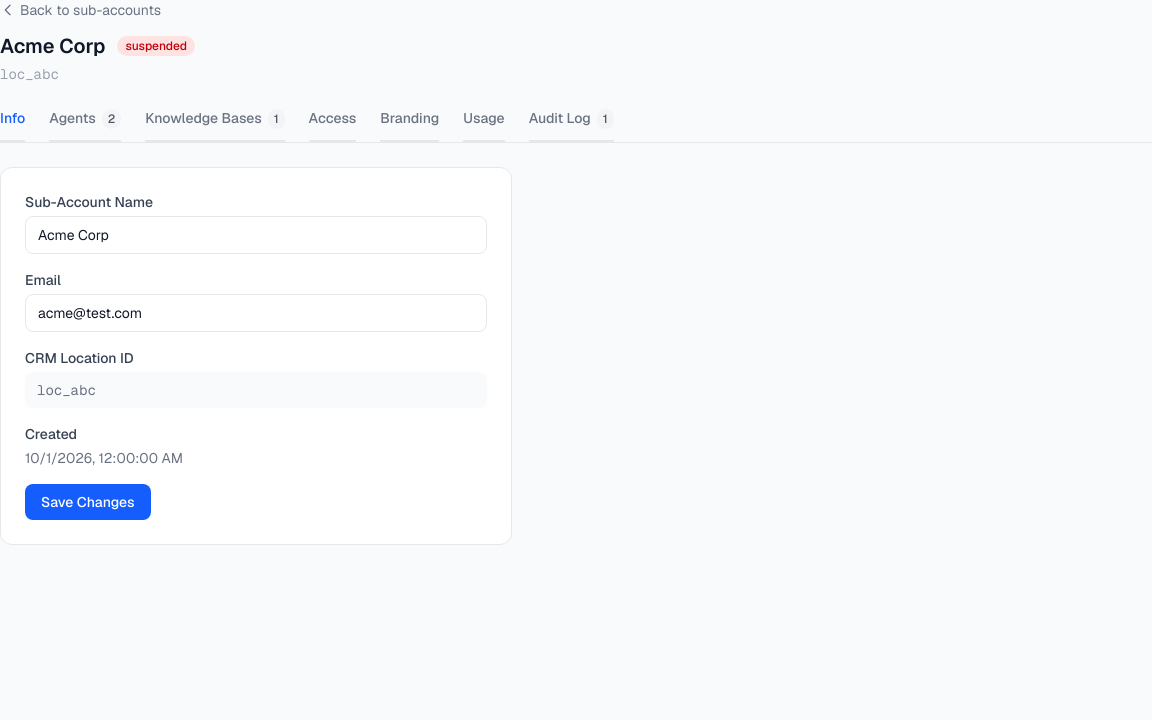
Test: TenantDetail › shows reactivate button for suspended tenant
The image size is (1152, 720).
Click the button "Access" at (332, 125), box top-left (309, 108), bottom-right (356, 142)
(page scrolled)
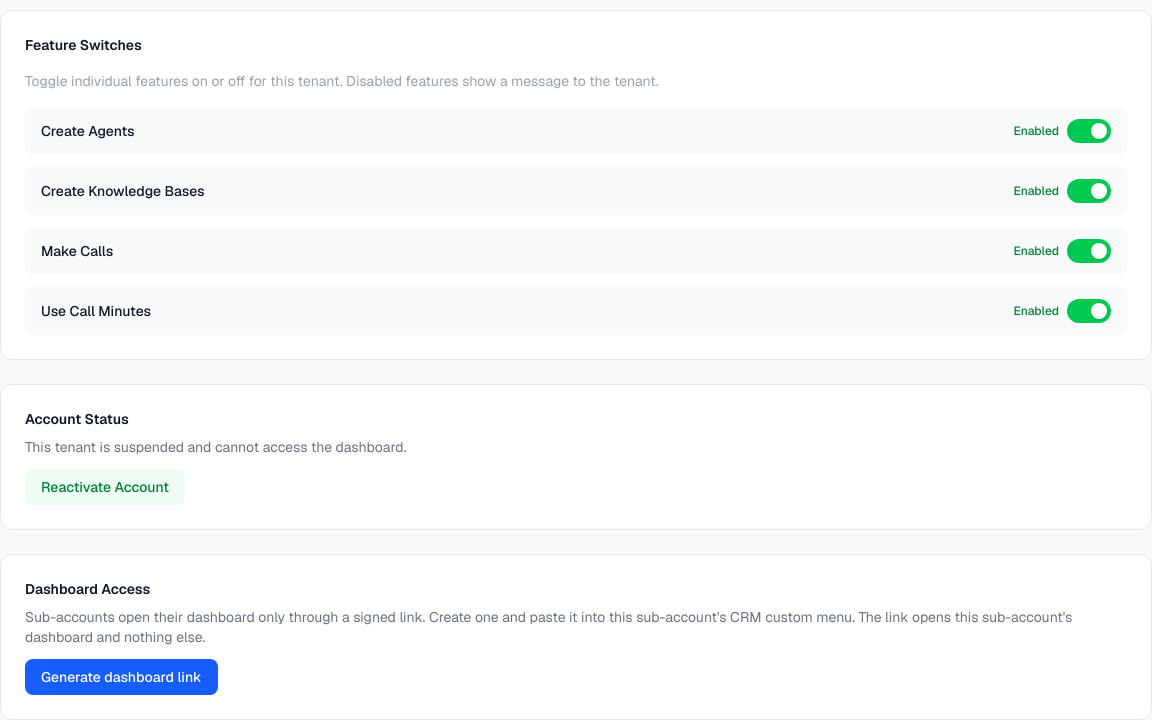
Check: the text "This tenant is suspended and cannot access the dashboard." is shown, box top-left (25, 438), bottom-right (406, 456)
Check: the button "Reactivate Account" is shown, box top-left (25, 469), bottom-right (185, 505)
